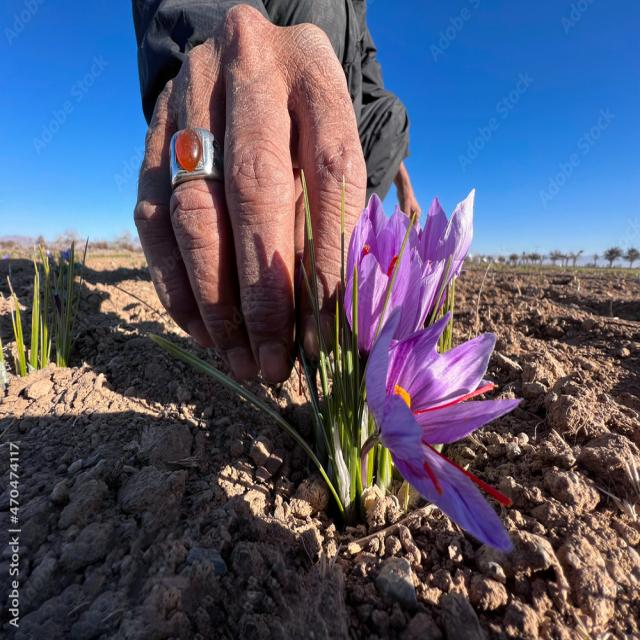saffron open: (366, 308, 519, 552), (345, 192, 475, 353)
